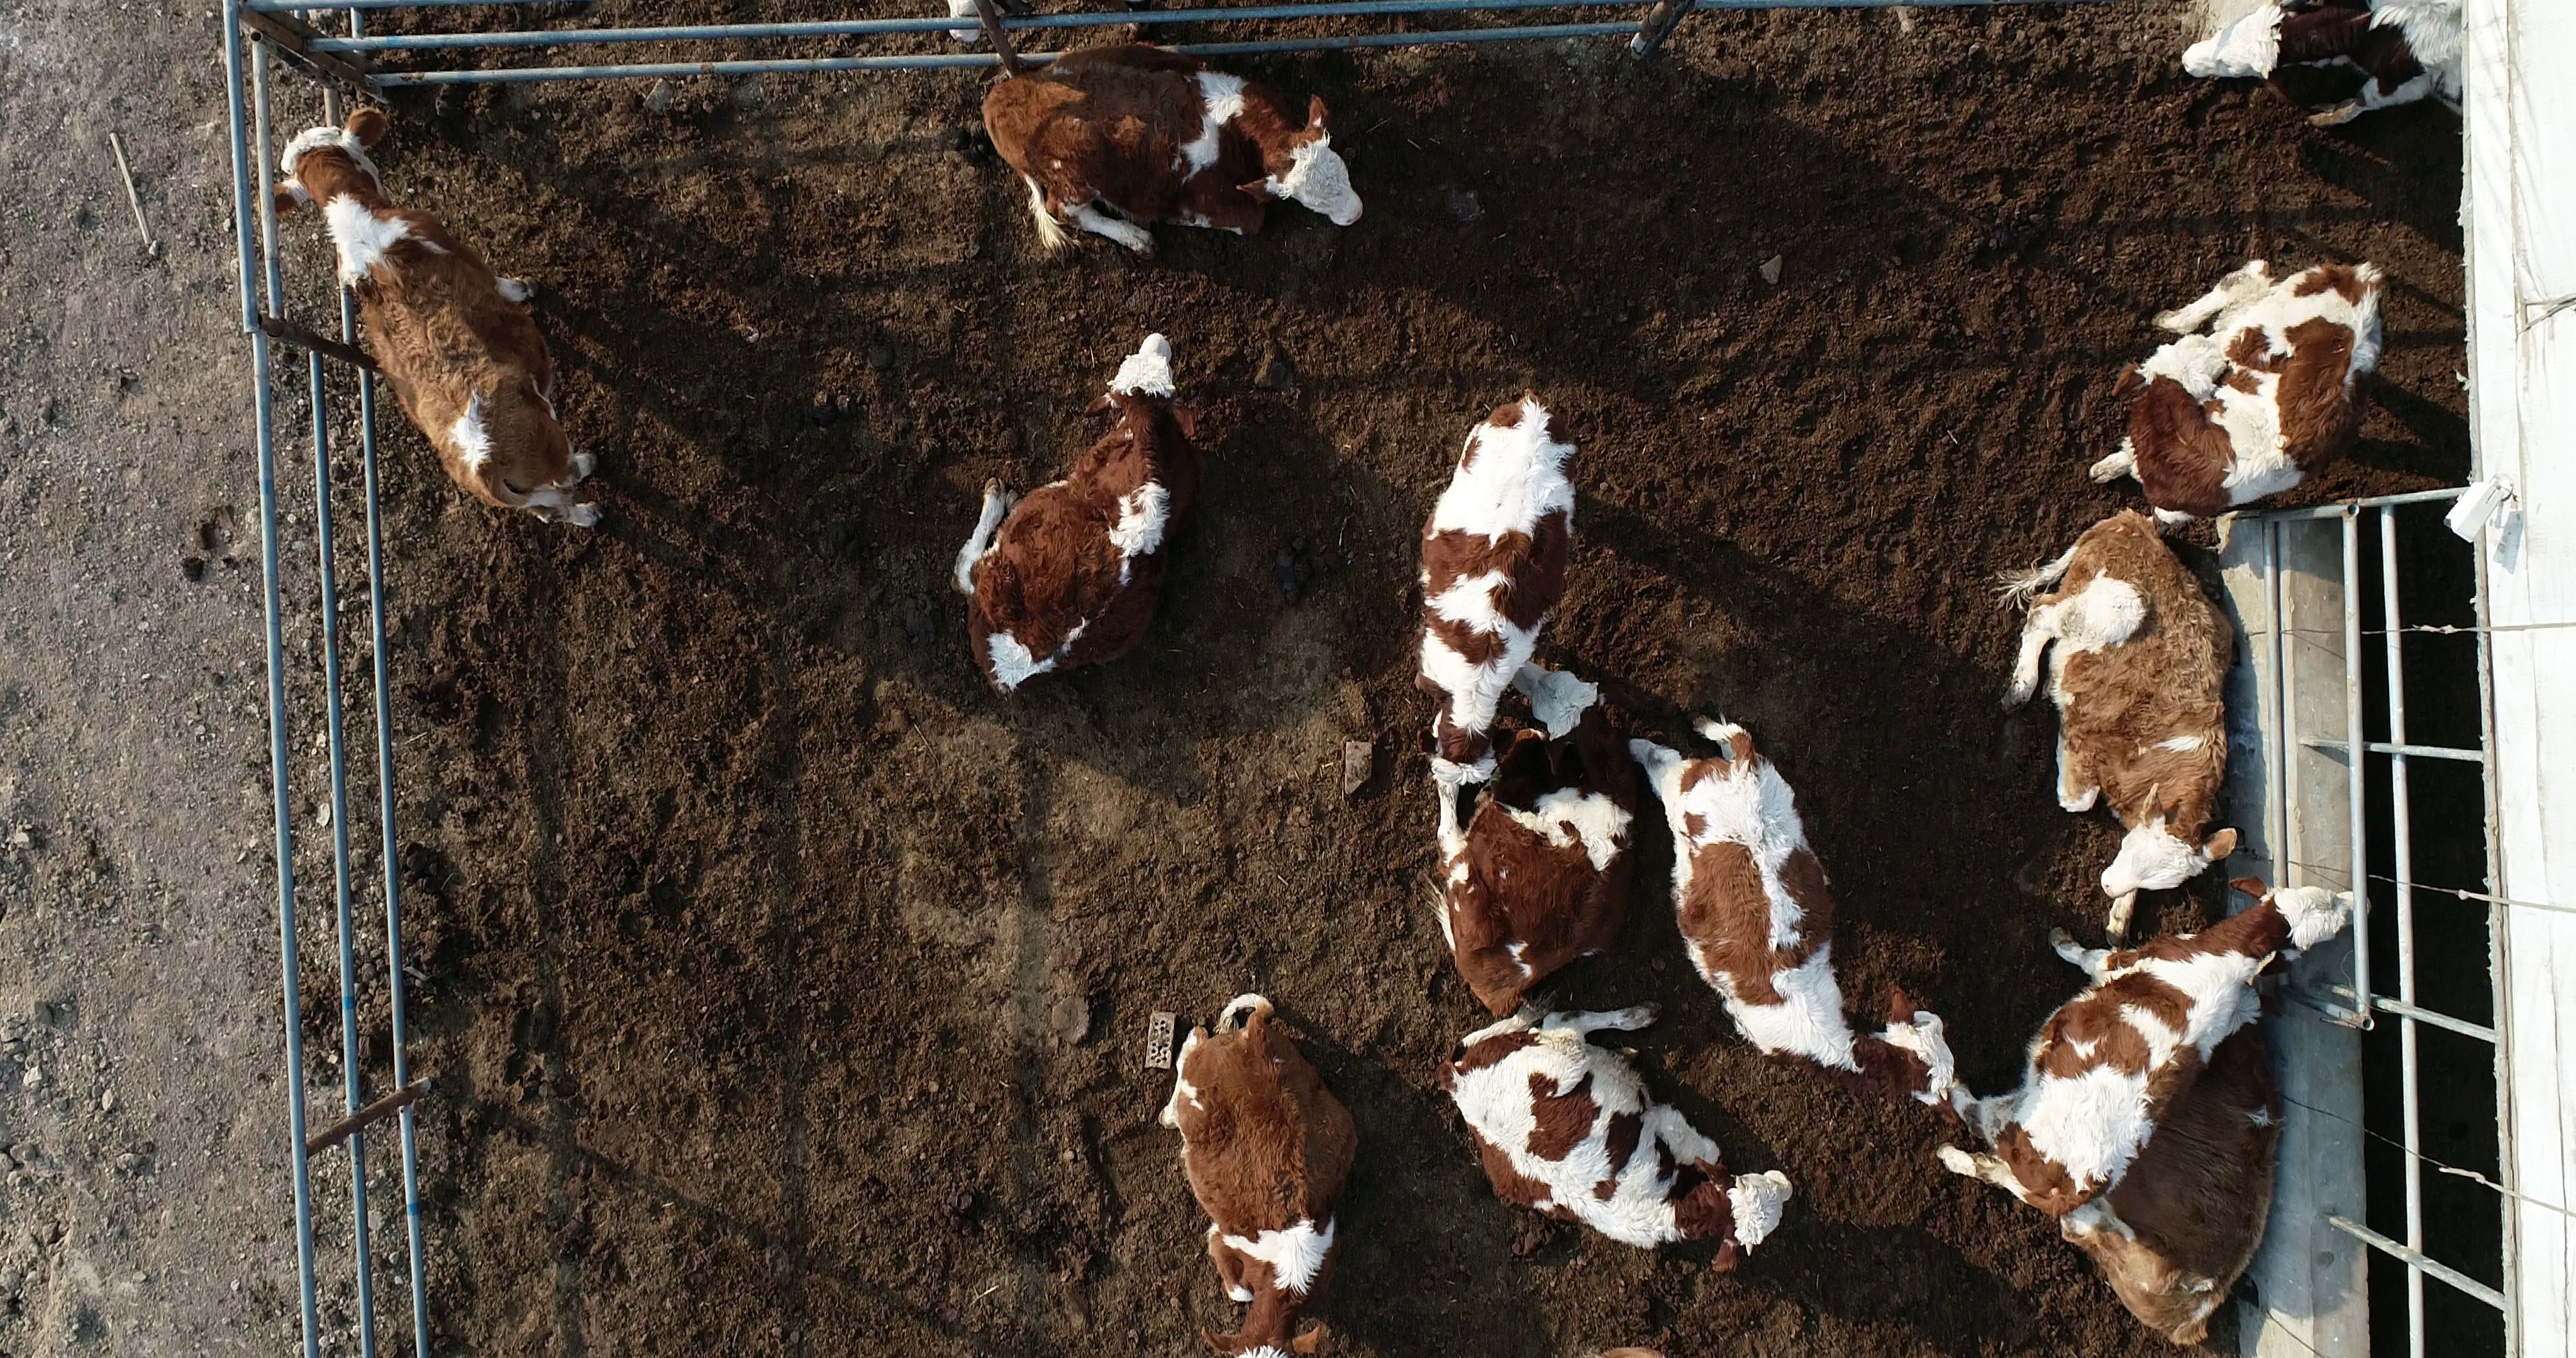cattle: (256, 107, 615, 532), (1409, 383, 1584, 797)
